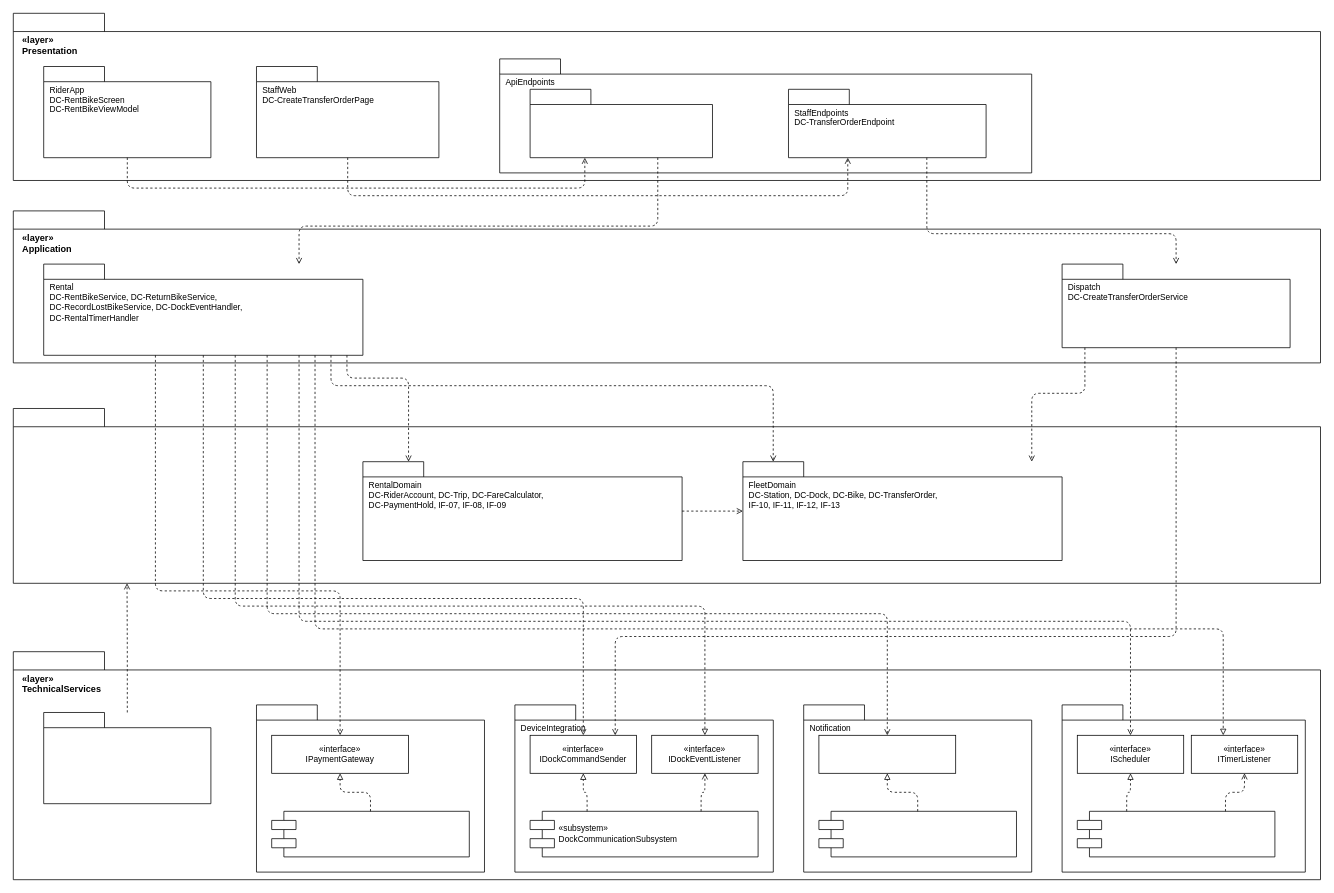
Image size: 1334x893. Some labels were removed from this diagram. The box of each missing label's shape, as (x1, y1, x2, y2) in pixels:
PaymentIntegration: (256, 704, 484, 872)
Persistence 7 lớp Jpa*Repository: (43, 712, 211, 804)
RiderEndpoints DC-RentalEndpoint: (529, 89, 712, 158)
Scheduling: (1061, 704, 1305, 872)
«interface» IInvoiceSender: (818, 735, 956, 773)
«layer» Domain: (13, 408, 1320, 583)
«subsystem» EmailSubsystem: (818, 811, 1016, 857)
«subsystem» PaymentGatewaySubsystem: (271, 811, 469, 857)
«subsystem» SchedulerSubsystem: (1077, 811, 1275, 857)
